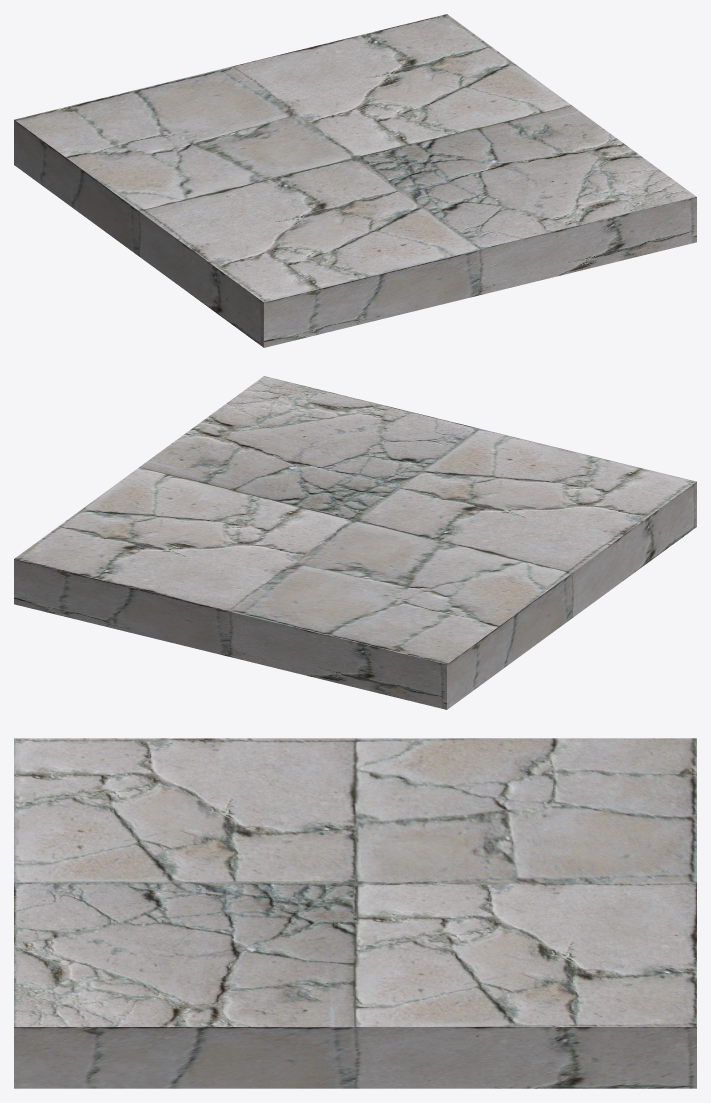
Rendered from TUT_Floor_2x2_H.FBX.
3 renders of one model, top to bottom at view 1: azimuth 30°, elevation 25°; view 2: azimuth 150°, elevation 25°; view 3: azimuth 270°, elevation 25°, orthographic. The views are drawn at different scales.
Visible parts, largest first — view 1: DFloor_Single; view 2: DFloor_Single; view 3: DFloor_Single.
Part boxes in pixels (x1,y1,x2,y2): DFloor_Single: (14,14,696,347); DFloor_Single: (14,376,696,709); DFloor_Single: (14,738,696,1088).
Bounding box in the file's own units: 400 × 40 × 400.
